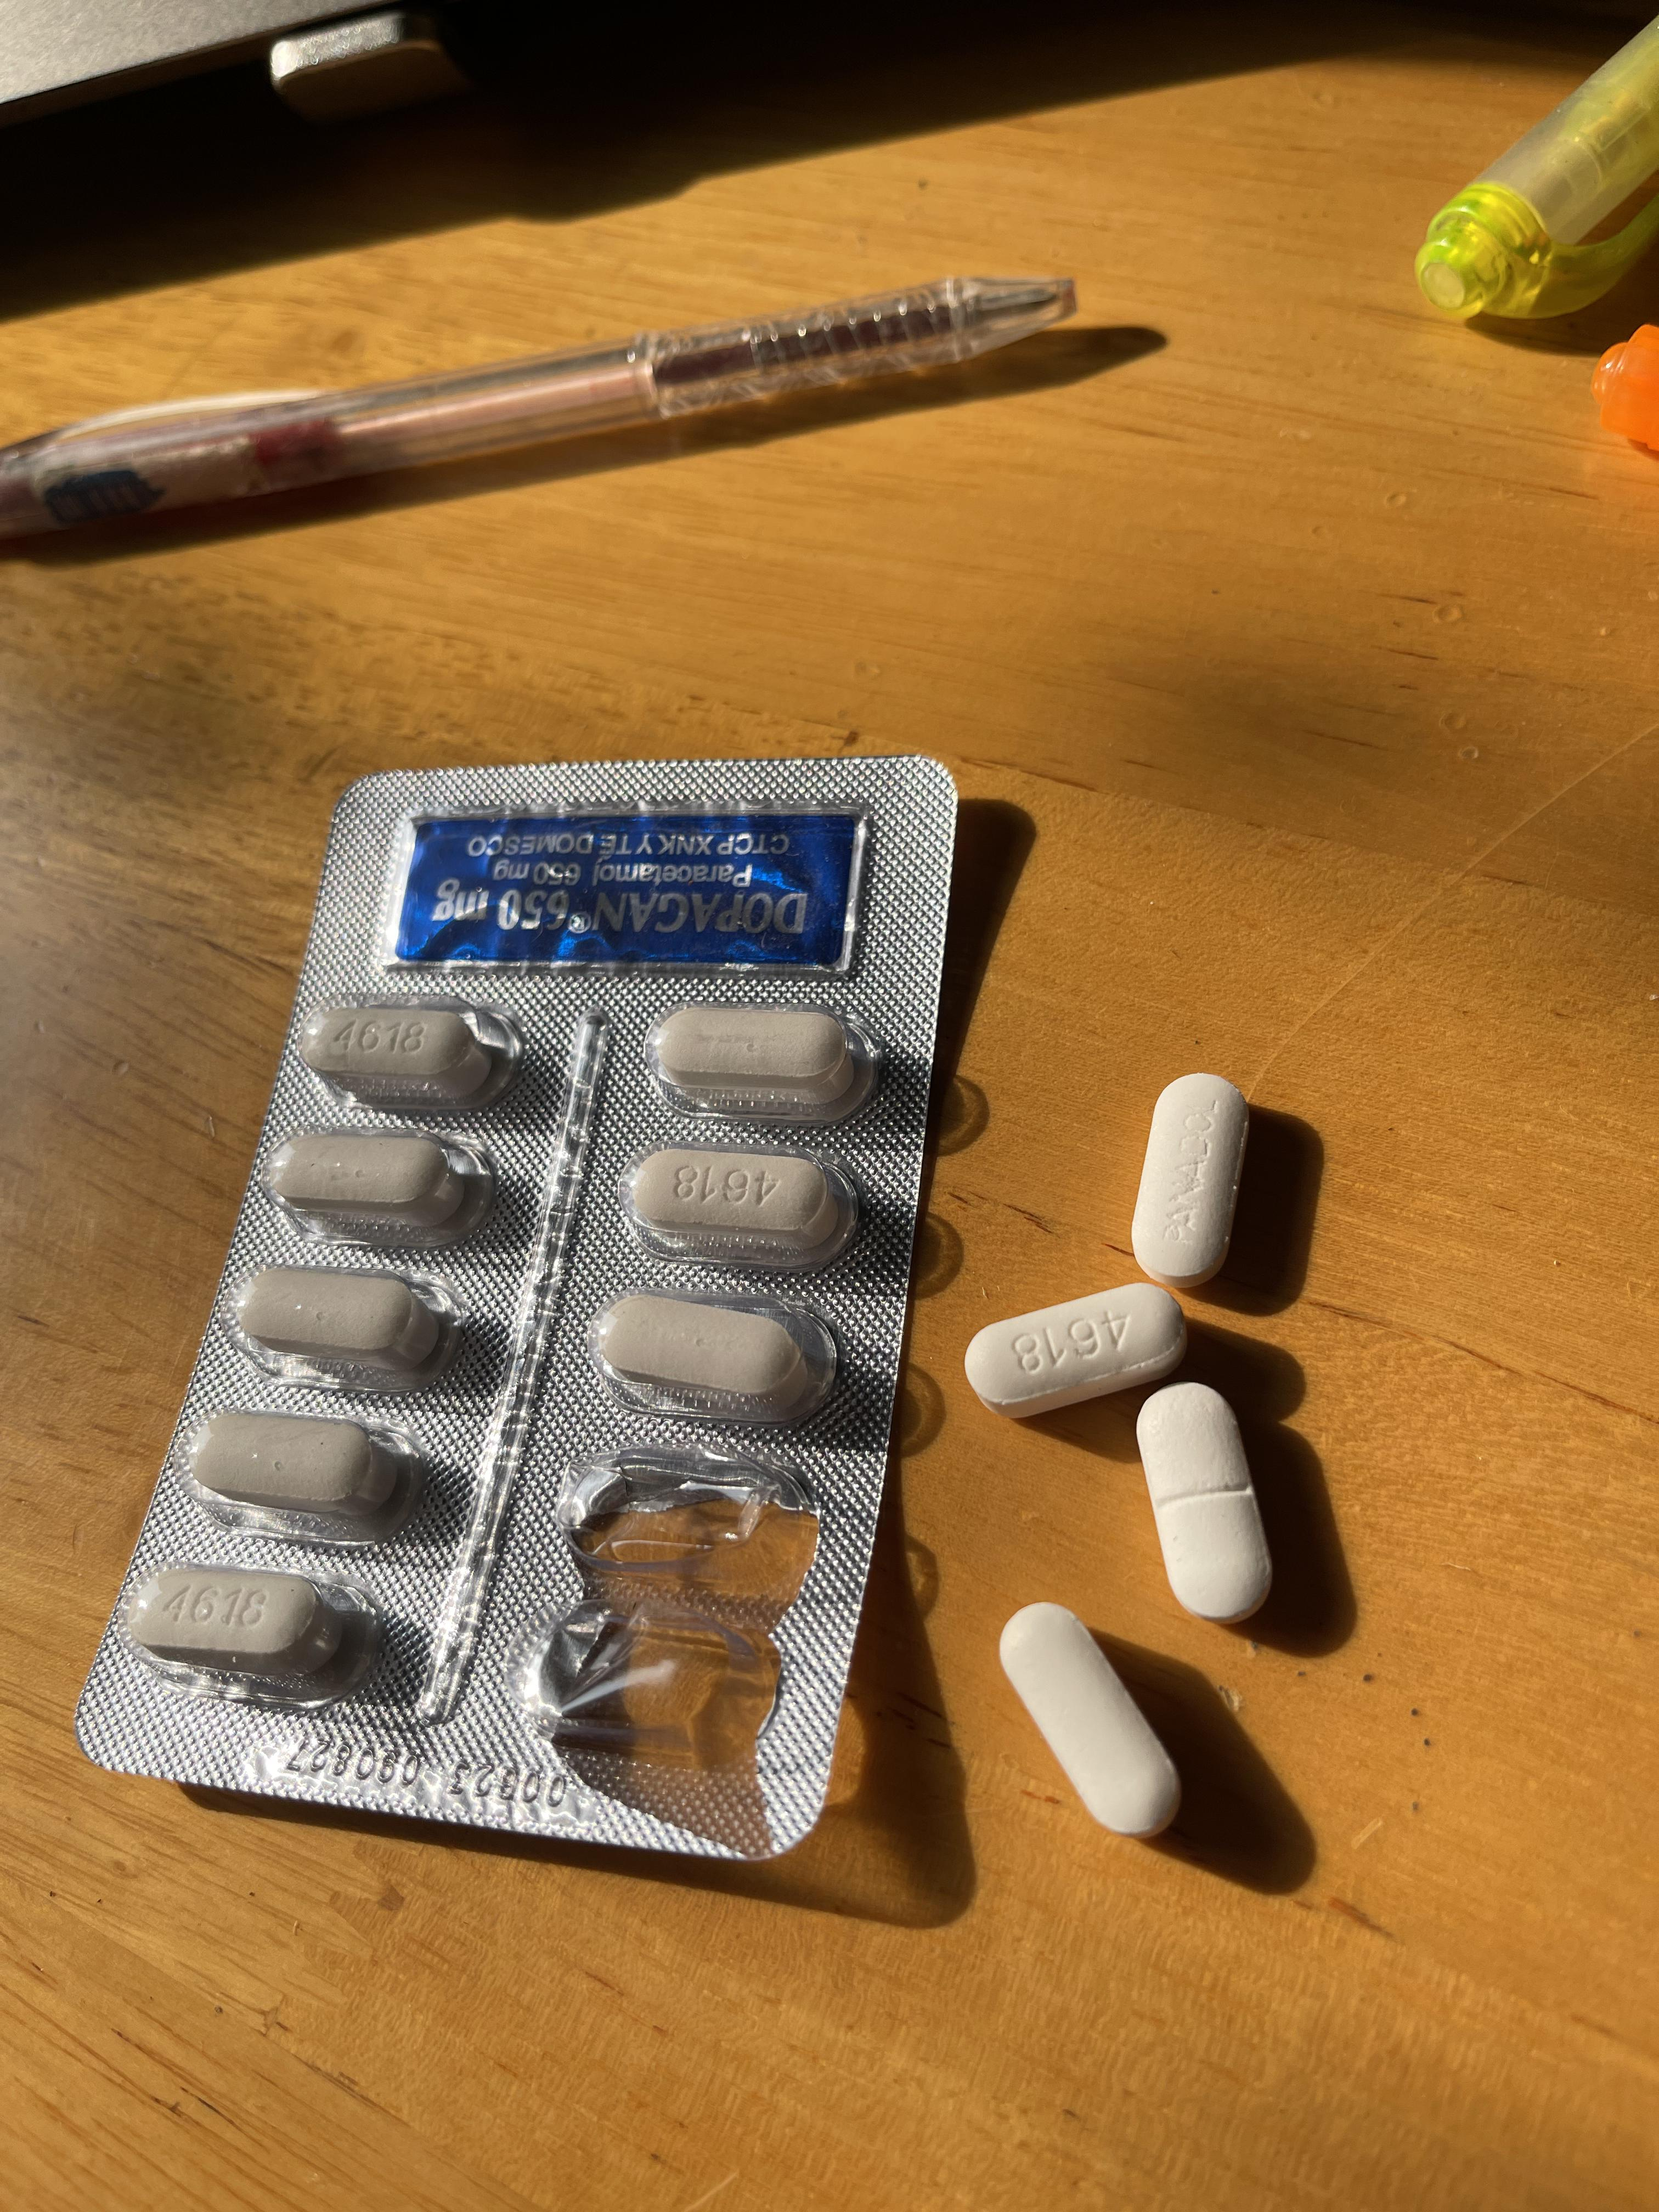Paracetamol_350mg: (1134, 1385, 1267, 1627), (1133, 1076, 1249, 1287)
Paracetamol_500mg: (1012, 1606, 1187, 1839), (591, 1289, 831, 1421), (619, 1141, 854, 1266), (640, 996, 871, 1116), (234, 1263, 457, 1385), (127, 1562, 345, 1686), (186, 1409, 411, 1527), (268, 1123, 491, 1240), (969, 1289, 1182, 1411), (305, 998, 516, 1111)
